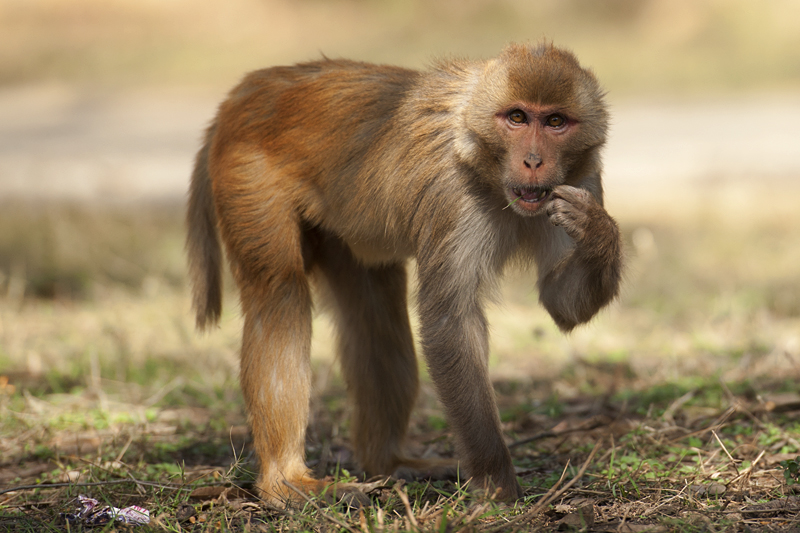monkey: (170, 42, 627, 508)
